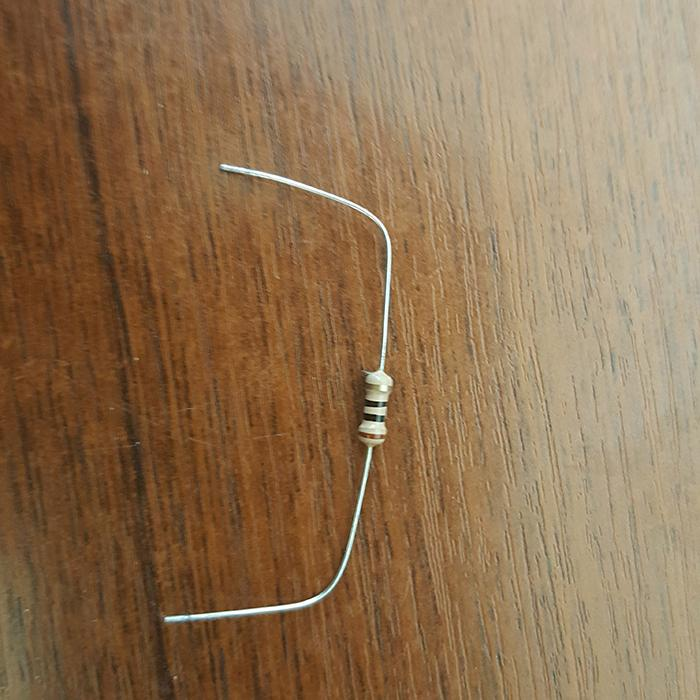resistor: (357, 368, 393, 445)
